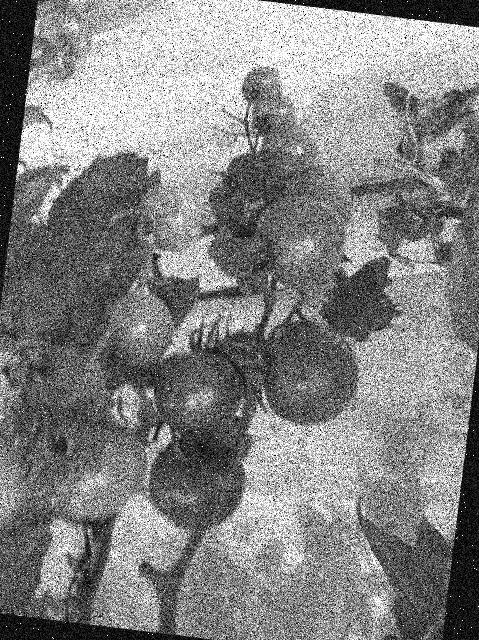l_fully_ripened: (258, 315, 365, 433), (142, 428, 250, 537), (146, 346, 247, 442), (38, 43, 76, 82), (30, 34, 53, 66)
l_green: (46, 414, 151, 526), (96, 288, 178, 371), (38, 338, 113, 428), (131, 181, 207, 255), (280, 161, 356, 230), (253, 118, 320, 190), (0, 428, 30, 537), (222, 150, 278, 205), (248, 89, 299, 141), (237, 62, 284, 107)
l_half_ripened: (250, 191, 349, 296), (52, 8, 88, 47), (60, 29, 93, 59)
